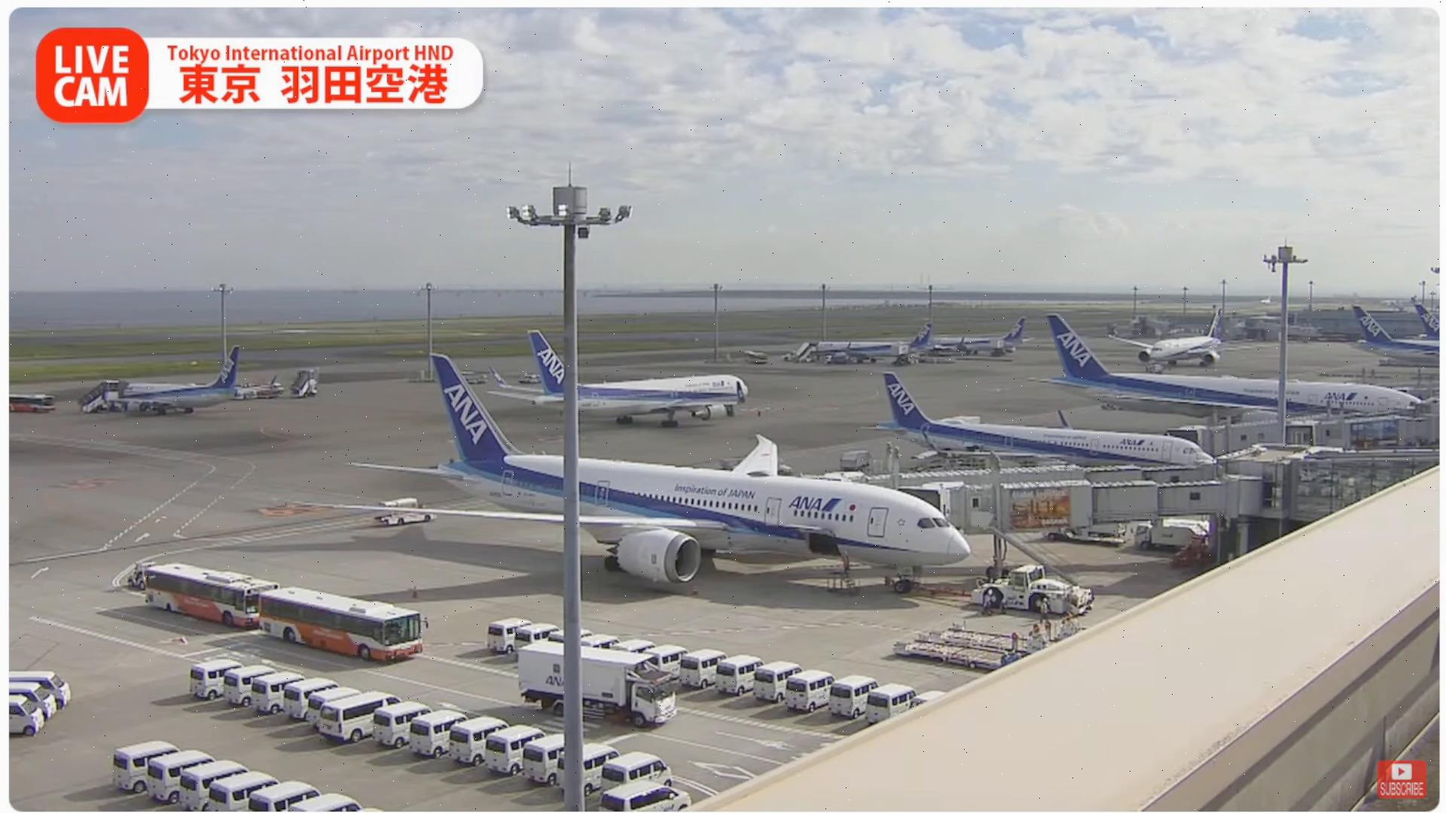APS: (969, 564, 1106, 619)
Aerobridge: (899, 476, 1264, 540), (843, 457, 1217, 496)
Airplane: (330, 354, 973, 599)
JCPL: (895, 622, 1042, 671), (934, 610, 1089, 654)
Skyloader: (372, 494, 440, 531)
Window: (1290, 456, 1440, 523)
